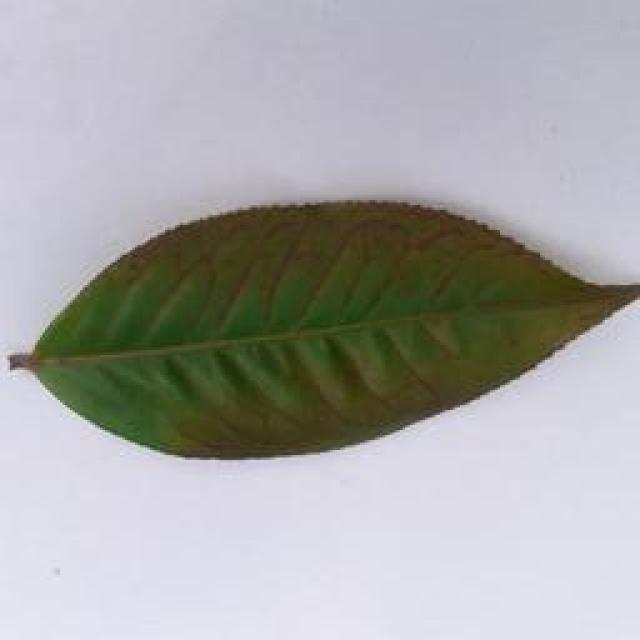Red Leaf Spot: (0, 185, 630, 466)
